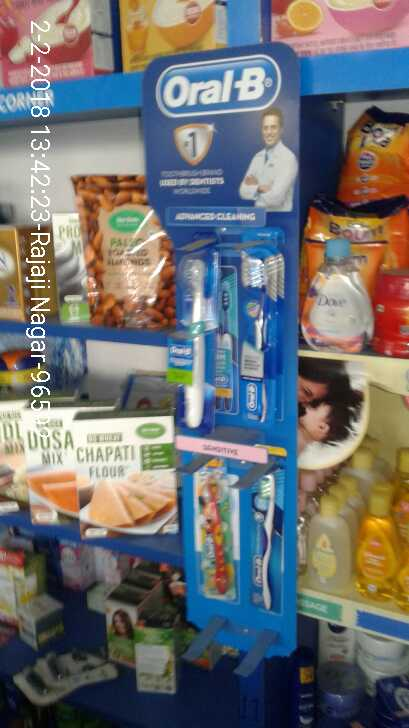oralb: (170, 256, 224, 440), (230, 245, 279, 425), (240, 470, 284, 618)
